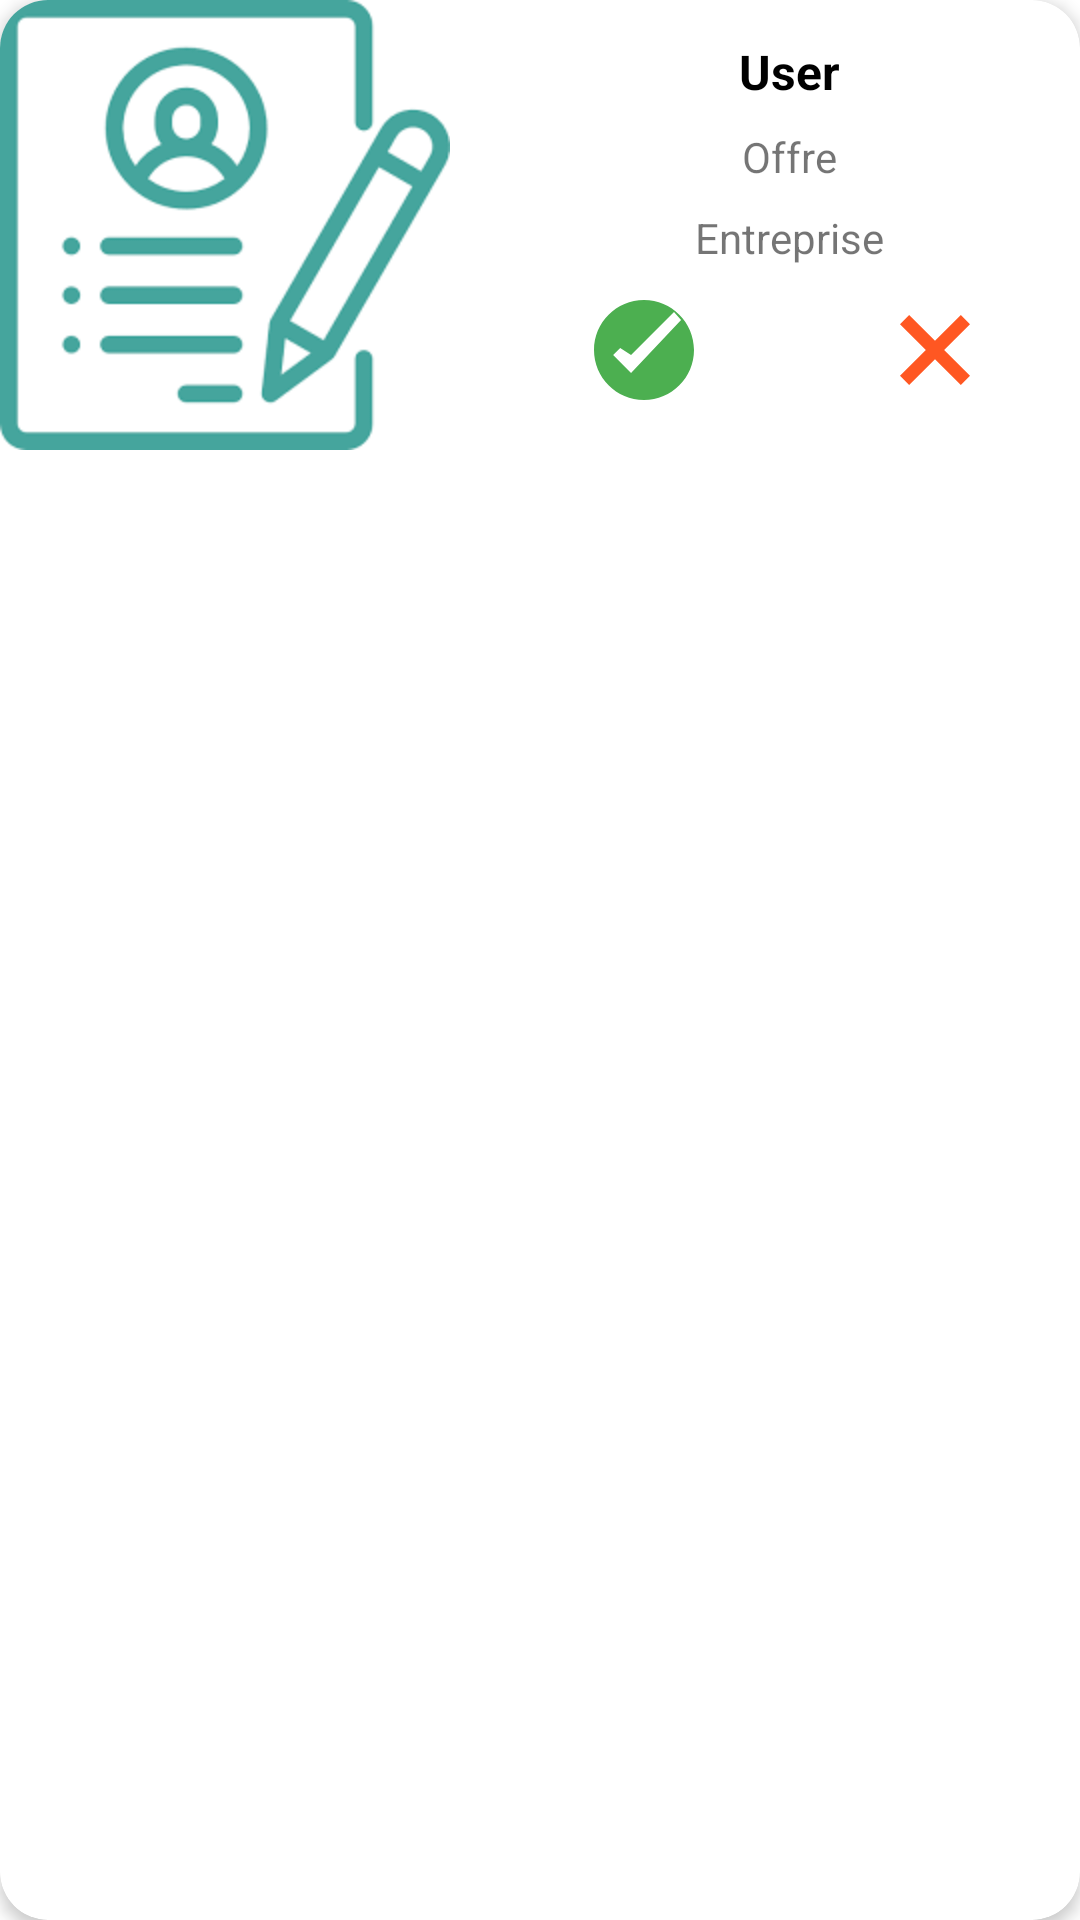

Icon click points for this 1080w x 1920h phone screenshot, format (x=x, y=y):
accept: (x=644, y=350)
remove: (x=935, y=350)
